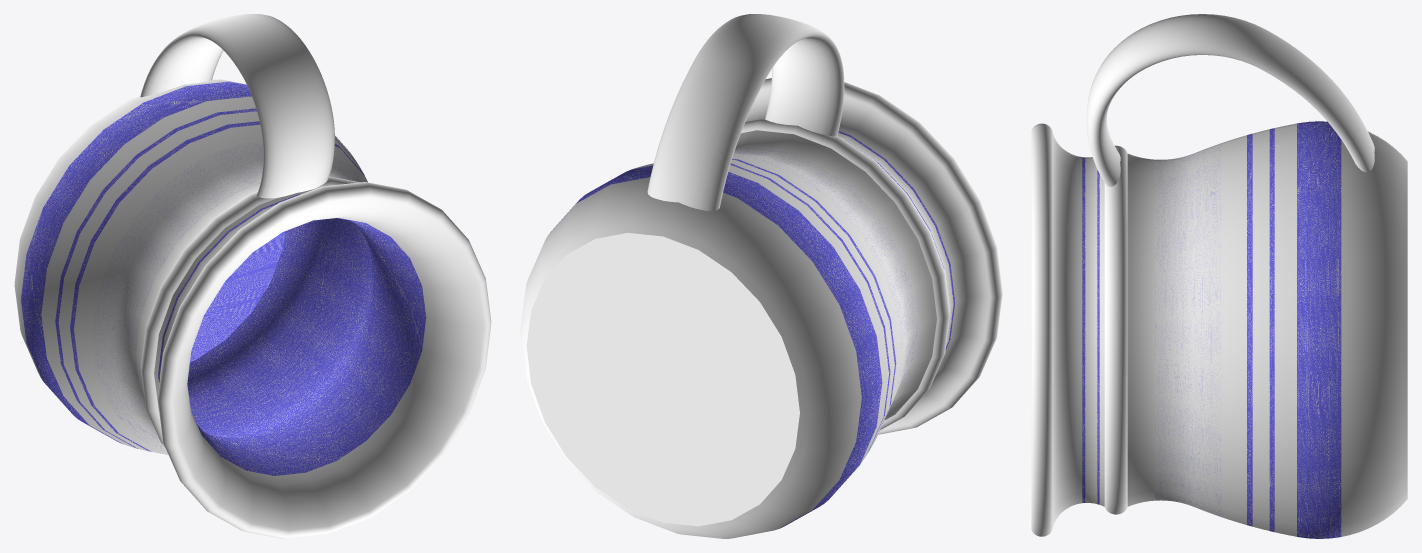
Rendered from model_scale.obj.
3 renders of one model, left to right at view 1: azimuth 30°, elevation 25°; view 2: azimuth 150°, elevation 25°; view 3: azimuth 270°, elevation 25°, orthographic. The views are drawn at different scales.
Parts seen in each view (by area): view 1: mesh1_mesh1-geometry, mesh2_mesh2-geometry; view 2: mesh1_mesh1-geometry, mesh2_mesh2-geometry; view 3: mesh1_mesh1-geometry, mesh2_mesh2-geometry.
Boxes of the visible parts, <box> form: mesh1_mesh1-geometry: <box>14,79,491,538</box>; mesh2_mesh2-geometry: <box>140,14,334,198</box>; mesh1_mesh1-geometry: <box>520,78,1002,538</box>; mesh2_mesh2-geometry: <box>647,14,844,210</box>; mesh1_mesh1-geometry: <box>1031,121,1407,538</box>; mesh2_mesh2-geometry: <box>1086,14,1374,186</box>.
Bounding box in the file's own units: 0.0957 × 0.1244 × 0.0859.
